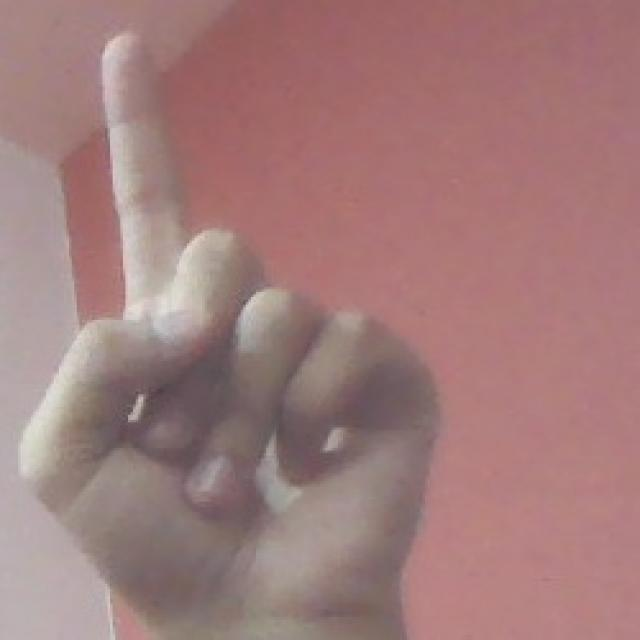Numeric-1: (22, 28, 438, 588)
